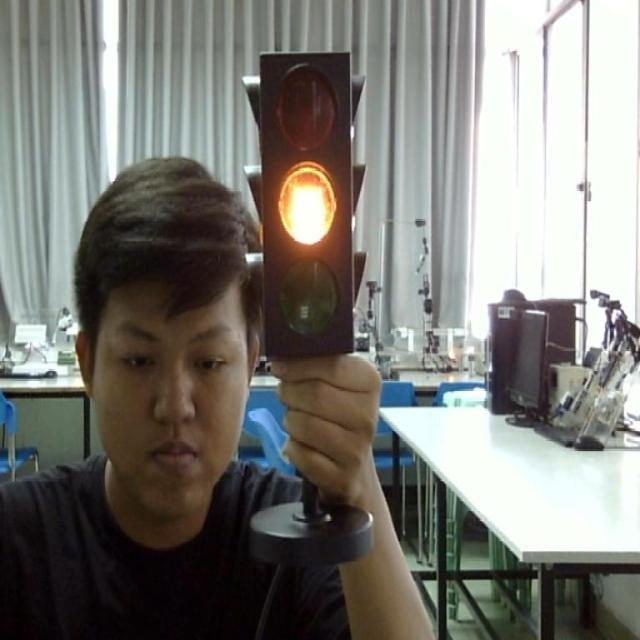yellow_light: (243, 51, 360, 356)
